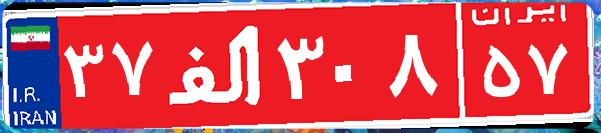0: (330, 28, 385, 110)
3: (273, 28, 330, 110), (57, 26, 110, 107)
5: (475, 38, 525, 113)
7: (110, 28, 158, 105), (525, 38, 570, 115)
8: (385, 28, 445, 110)
الف: (158, 15, 273, 115)
